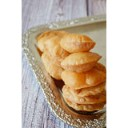poori: (63, 82, 108, 104), (36, 29, 68, 59), (60, 67, 106, 87), (63, 51, 102, 73), (60, 34, 95, 52)
